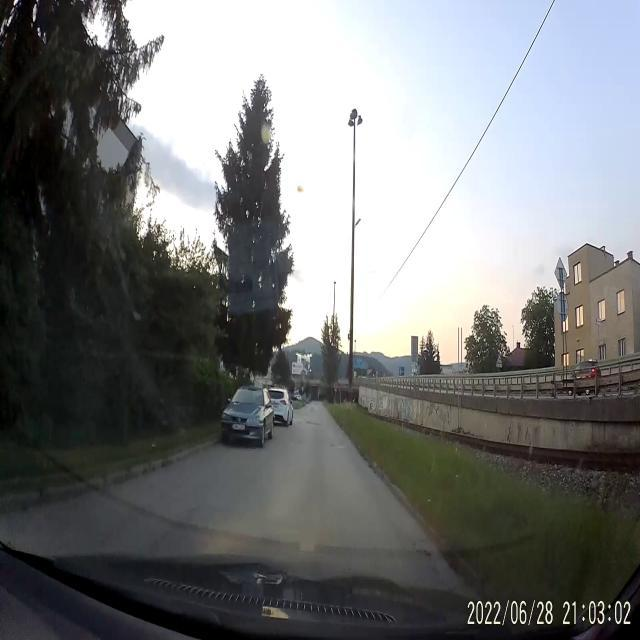Pothole: (304, 419, 322, 427)
